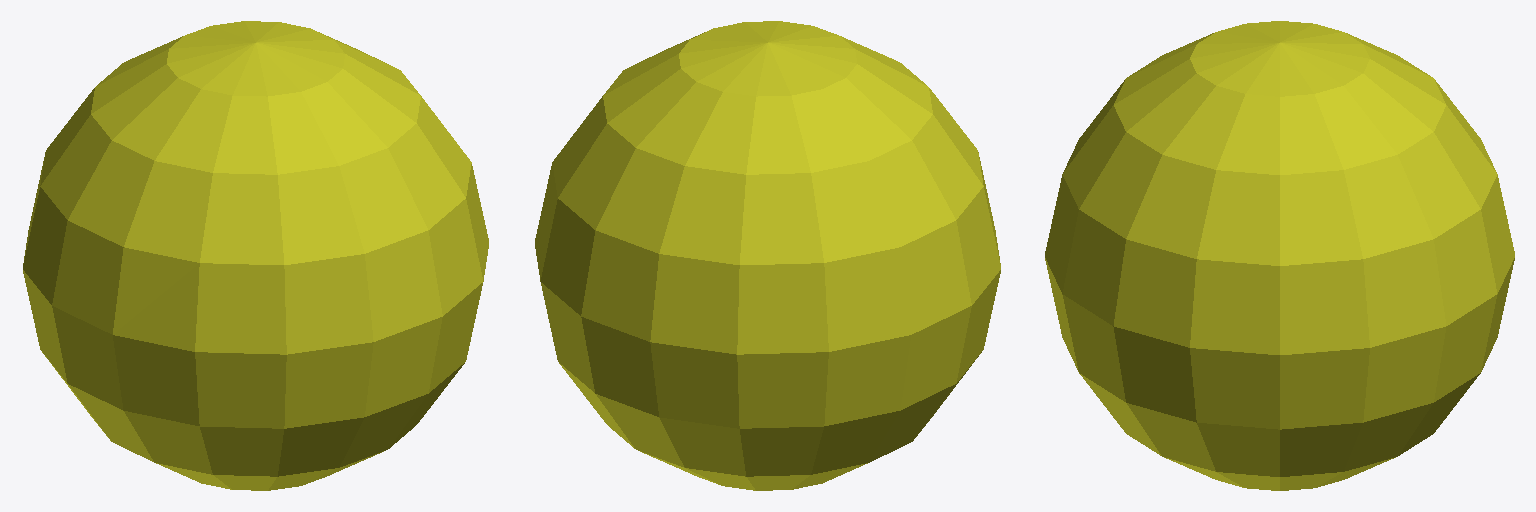
File: ballyellow.obj
The picture shows the model from 3 angles: view 1: azimuth 30°, elevation 25°; view 2: azimuth 150°, elevation 25°; view 3: azimuth 270°, elevation 25°; orthographic projection.
Visible parts, largest first — view 1: Sphere; view 2: Sphere; view 3: Sphere.
Boxes of the visible parts, x1=… form: Sphere: x1=23, y1=21, x2=488, y2=490; Sphere: x1=535, y1=21, x2=1000, y2=490; Sphere: x1=1045, y1=21, x2=1514, y2=490.
Size of the model in its own units: 2 by 2 by 2.